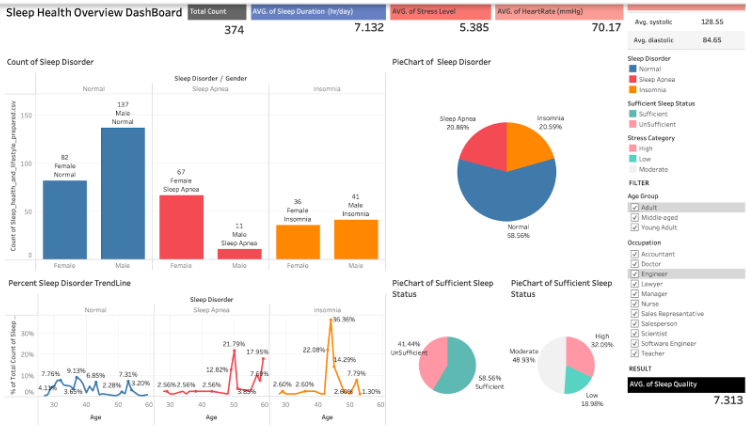

What the dashboard file says about the page in this screenshot:
{"tool":"tableau","page":{"name":"Q3.1 DashBoard | Age ","canvas":[1000,1000],"units":"permille","ordinal":2},"visuals":[{"type":"worksheet","title":"Q3.1 Age | Quality of Sleep & Sleep Duration Trend Line","mark":"Automatic","rows":["quality_of_sleep","sleep_duration"],"cols":["age"],"box":[6.9,12.2,421.9,487.8]},{"type":"worksheet","title":"Q3.1 Age | Quality of Sleep TrendLine ","mark":"Automatic","rows":["quality_of_sleep"],"cols":["sleep_disorder","age"],"box":[428.8,12.2,425.6,487.8]},{"type":"legend","title":"Q3.1 AgeGroup | Percent Sleep Disorder","param":"[federated.0h945g30rc20i3161gg5g0mod7wl].[none:sleep_disorder:nk]","box":[854.4,12.2,138.7,130.9]},{"type":"legend","title":"Q3.1 Age | Quality of Sleep & Sleep Duration Trend Line","param":"[federated.0h945g30rc20i3161gg5g0mod7wl].[:Measure Names]","box":[854.4,143.1,138.7,100.5]},{"type":"worksheet","title":"Q3.1 AgeGroup | Percent Sleep Disorder","mark":"Automatic","cols":["age_group","sleep_disorder"],"box":[6.9,500,421.9,487.9]},{"type":"worksheet","title":"Q3.1 Age | Percent Sleep Disorder TrendLine ","mark":"Automatic","cols":["sleep_disorder","age"],"box":[428.8,500,425.6,487.9]}]}

Visuals, with their boxes on the dashboard's canvas, which has no fixed pixel size, in thousandths of its width and height (x1, y1, x2, y2). These are canvas units, not pixel positions in the 746x432 screenshot, which may show the page scaled, cropped or inside an application window:
"Q3.1 Age | Quality of Sleep & Sleep Duration Trend Line" worksheet: bbox=(7, 12, 429, 500)
"Q3.1 Age | Quality of Sleep TrendLine " worksheet: bbox=(429, 12, 854, 500)
"Q3.1 AgeGroup | Percent Sleep Disorder" legend: bbox=(854, 12, 993, 143)
"Q3.1 Age | Quality of Sleep & Sleep Duration Trend Line" legend: bbox=(854, 143, 993, 244)
"Q3.1 AgeGroup | Percent Sleep Disorder" worksheet: bbox=(7, 500, 429, 988)
"Q3.1 Age | Percent Sleep Disorder TrendLine " worksheet: bbox=(429, 500, 854, 988)
